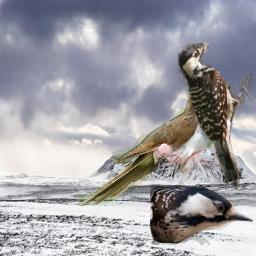Cuckoo: (77, 84, 231, 206)
Woodpecker: (178, 43, 253, 190), (150, 181, 253, 245)
